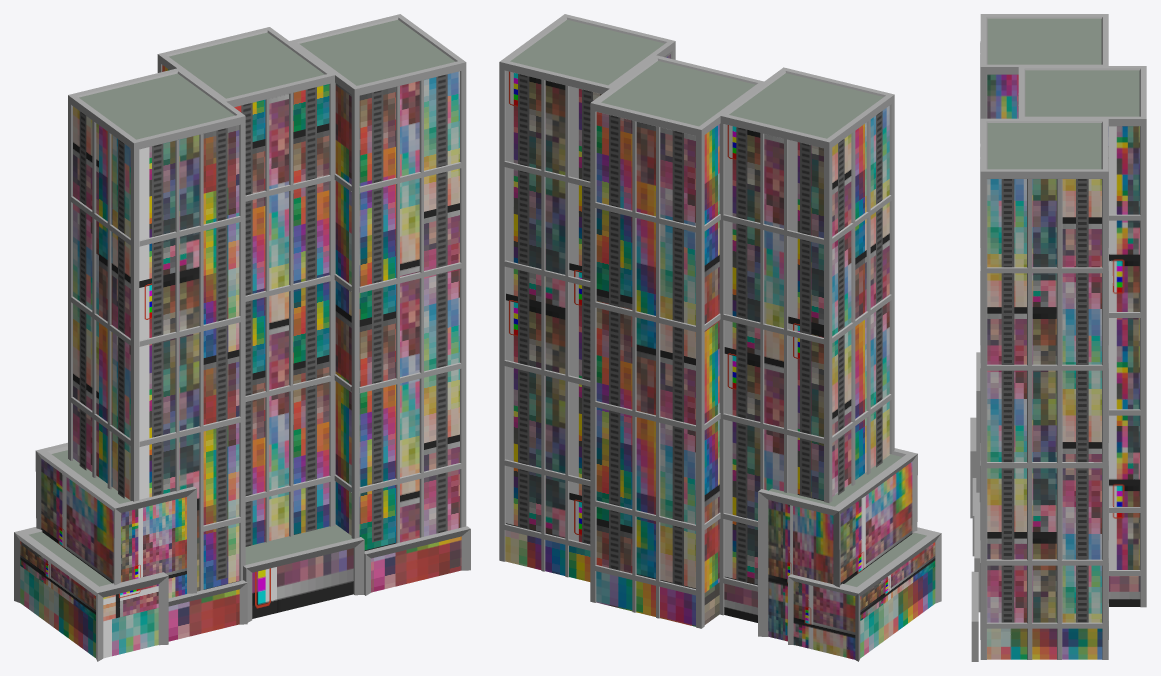
File: Building_ld_02.FBX
3 renders of one model, left to right at view 1: azimuth 30°, elevation 25°; view 2: azimuth 150°, elevation 25°; view 3: azimuth 270°, elevation 25°, orthographic. The views are drawn at different scales.
Visible parts, largest first — view 1: Building_lvdizhichuang_04_boli001, Building_lvdizhichuang_04_qiang001, Building_lvdizhichuang_04_baiyechuang001, Building_lvdizhichuang_04_men001, Building_lvdizhichuang_04_chuang001; view 2: Building_lvdizhichuang_04_boli001, Building_lvdizhichuang_04_qiang001, Building_lvdizhichuang_04_baiyechuang001, Building_lvdizhichuang_04_chuang001, Building_lvdizhichuang_04_men001; view 3: Building_lvdizhichuang_04_boli001, Building_lvdizhichuang_04_qiang001, Building_lvdizhichuang_04_baiyechuang001, Building_lvdizhichuang_04_men001.
Part boxes in pixels (x1=…): Building_lvdizhichuang_04_boli001: x1=73, y1=65, x2=459, y2=591; Building_lvdizhichuang_04_qiang001: x1=14, y1=14, x2=470, y2=661; Building_lvdizhichuang_04_baiyechuang001: x1=79, y1=74, x2=447, y2=580; Building_lvdizhichuang_04_men001: x1=20, y1=536, x2=461, y2=658; Building_lvdizhichuang_04_chuang001: x1=20, y1=458, x2=186, y2=621; Building_lvdizhichuang_04_boli001: x1=506, y1=52, x2=889, y2=592; Building_lvdizhichuang_04_qiang001: x1=499, y1=14, x2=941, y2=661; Building_lvdizhichuang_04_baiyechuang001: x1=518, y1=74, x2=882, y2=586; Building_lvdizhichuang_04_chuang001: x1=768, y1=462, x2=935, y2=659; Building_lvdizhichuang_04_men001: x1=505, y1=530, x2=935, y2=657; Building_lvdizhichuang_04_boli001: x1=987, y1=74, x2=1139, y2=622; Building_lvdizhichuang_04_qiang001: x1=970, y1=14, x2=1146, y2=661; Building_lvdizhichuang_04_baiyechuang001: x1=1001, y1=179, x2=1088, y2=622; Building_lvdizhichuang_04_men001: x1=987, y1=576, x2=1140, y2=659.
Size of the model in its own units: 79.49 by 103 by 33.42.
